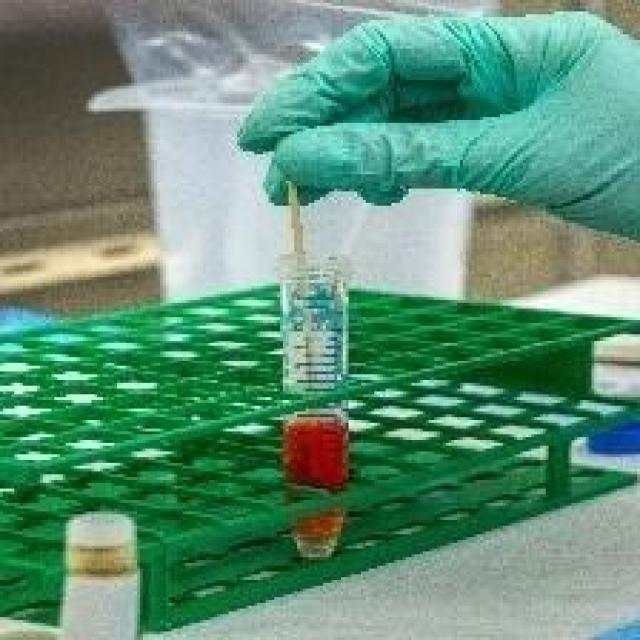syringe: (264, 166, 370, 568)
